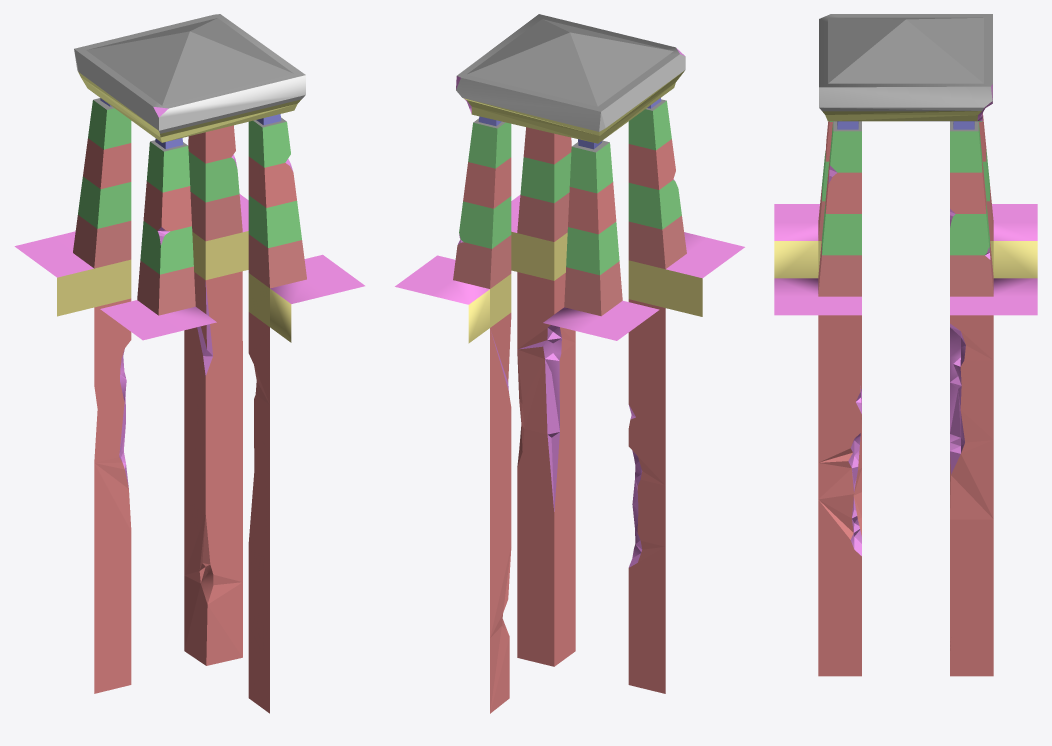
The model's file is SSQ_dungeon_S__SSQ_ent.gltf.
The picture shows the model from 3 angles, left to right: view 1: azimuth 30°, elevation 25°; view 2: azimuth 150°, elevation 25°; view 3: azimuth 270°, elevation 25°; orthographic projection. The views are drawn at different scales.
Parts seen in each view (by area): view 1: SSQ_ent; view 2: SSQ_ent; view 3: SSQ_ent.
Boxes of the visible parts, x1=… form: SSQ_ent: x1=14, y1=14, x2=364, y2=713; SSQ_ent: x1=395, y1=14, x2=744, y2=713; SSQ_ent: x1=774, y1=14, x2=1037, y2=676.
Size of the model in its own units: 7.68 by 21.74 by 7.68.
